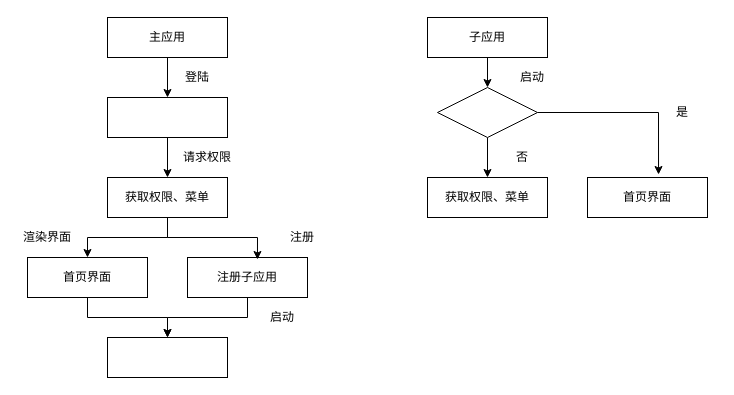
This 734x395 diagram has some shape labels left out. The shapes that lost their labels are listed below. From the top down, each one's centre as x and y in pixels, then its label:
the point at 167,117: 获取登陆信息
the point at 487,112: 是否独立访问
the point at 167,357: 点击子应用菜单
